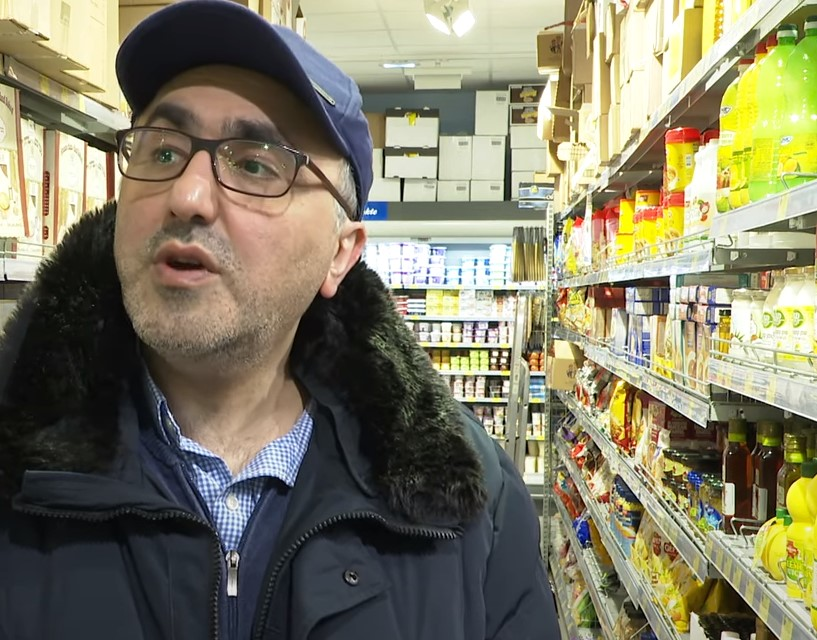face_no_mask: (106, 47, 368, 362)
